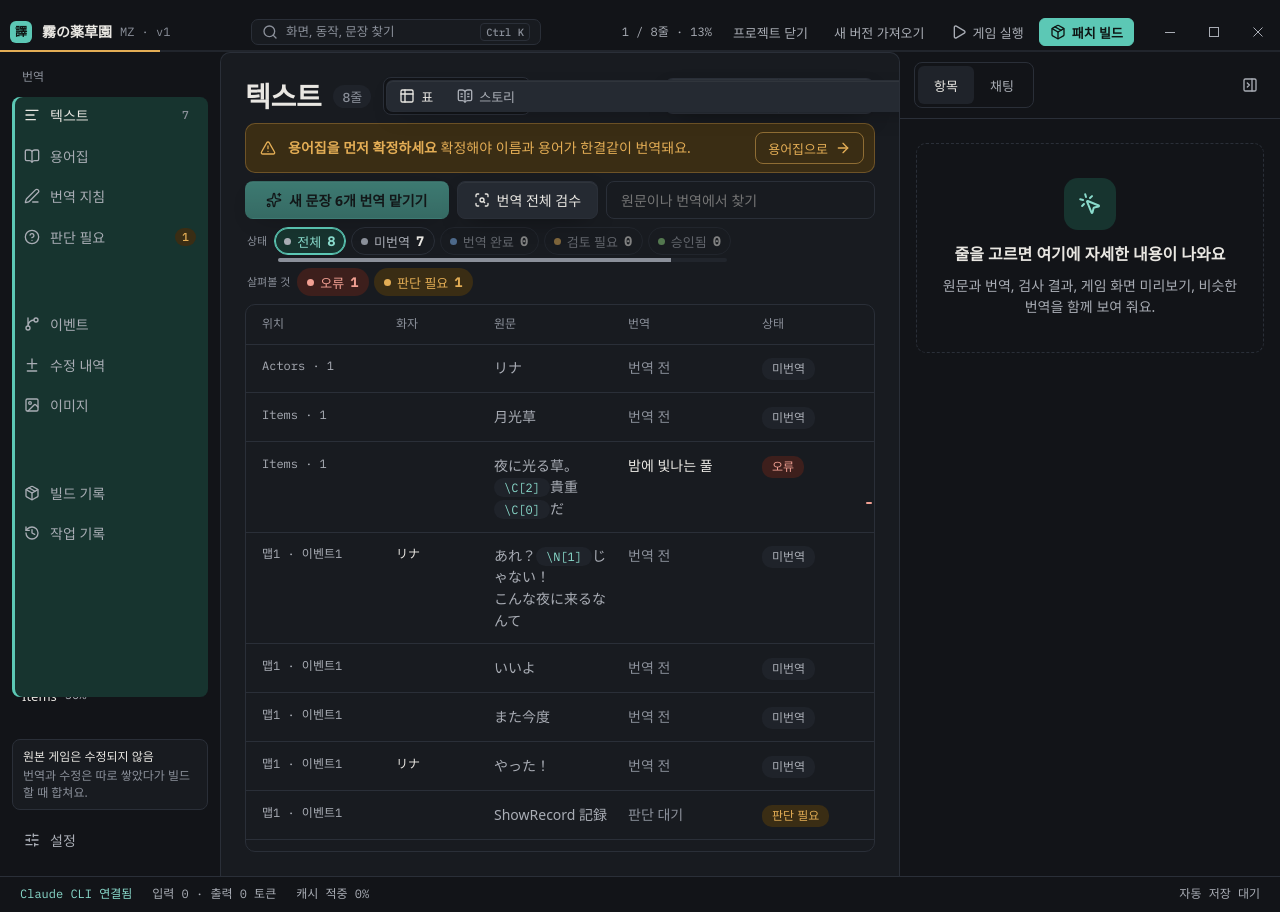
Test: 빌드 실패는 오류 글자
Check: the text "霧の薬草園" is shown, box [42,21,112,43]
Click the button "패치 빌드" at (1086, 32), box [1039,18,1134,46]
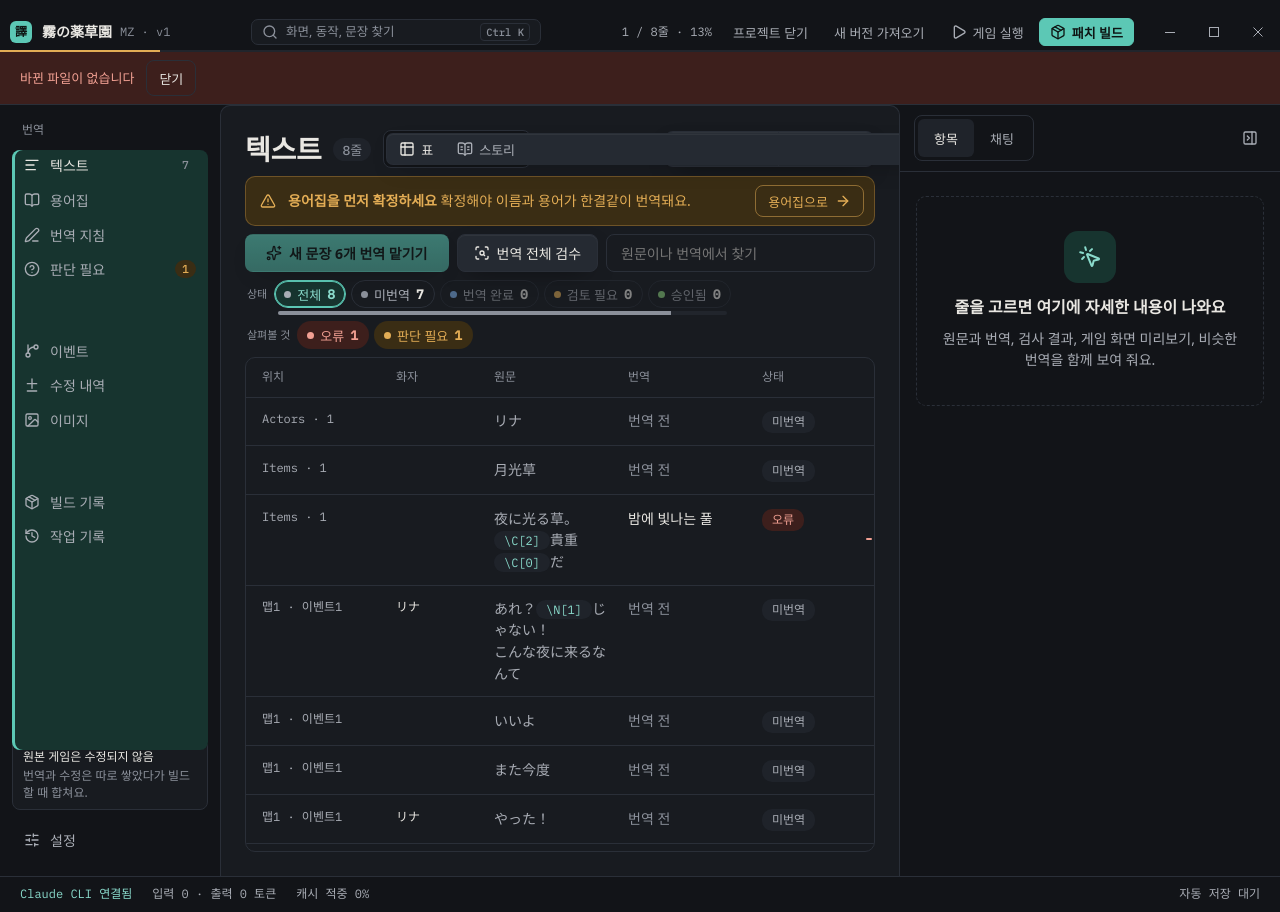
Check: the text "바뀐 파일이 없습니다" is shown, box [20,68,134,88]
